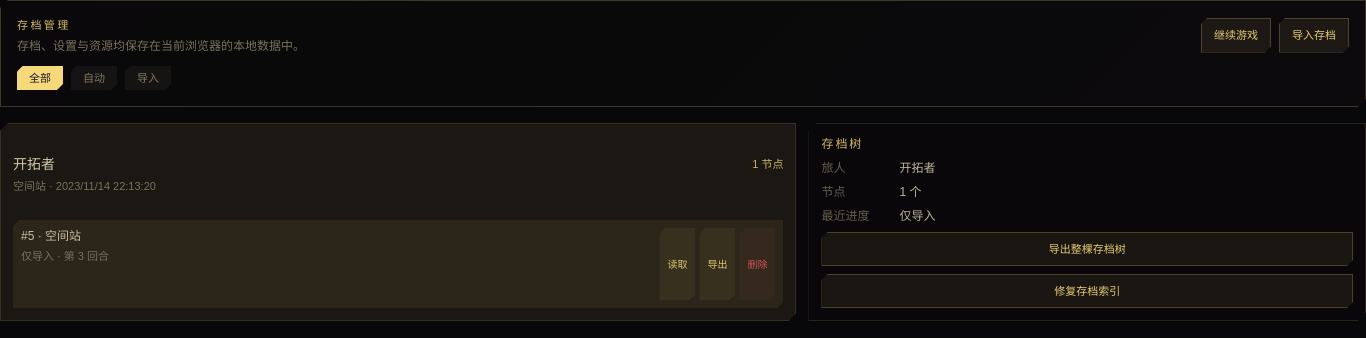
Test: 过滤语义（4b：两变体各自保留） › 设置页按整树过滤：无命中类型的树整体隐藏
The width and height of the screenshot is (1366, 338).
Expected: the text "仅导入" is shown, [900,209,936,223]
Step 1. Click the button "自动" → (94,78), box [71,66,117,90]
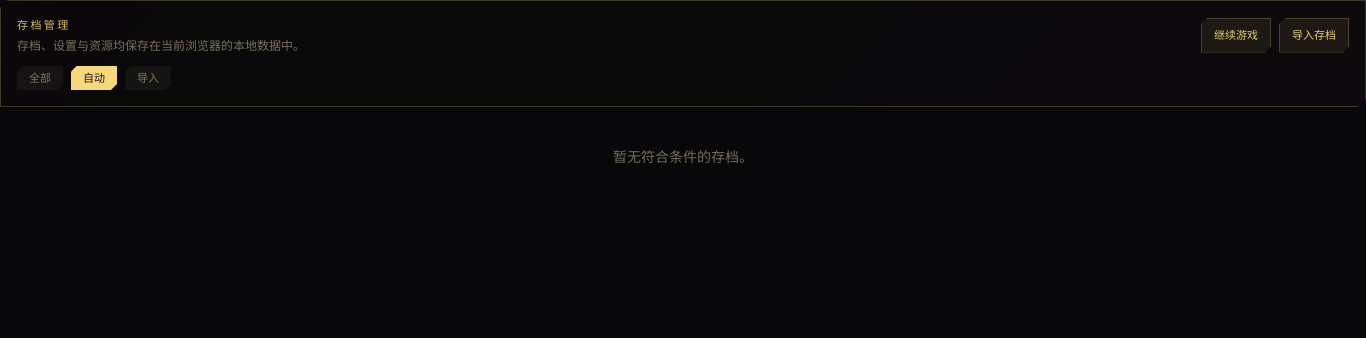
Expected: the text "暂无符合条件的存档。" is shown, [613,149,753,165]
Expected: the text "仅导入" is gone
